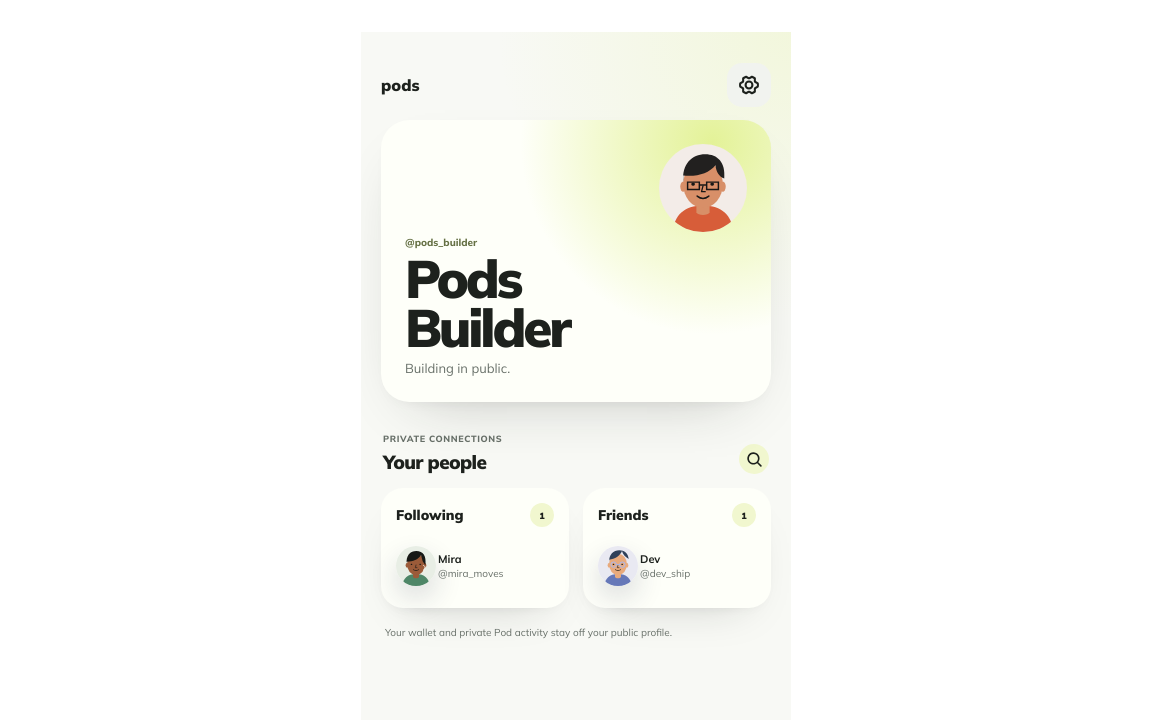
Test case: ProfilePage › keeps profile controls behind one icon settings sheet
Step 1. Click the button named "Open profile settings" → [749, 85], box [727,63,771,107]
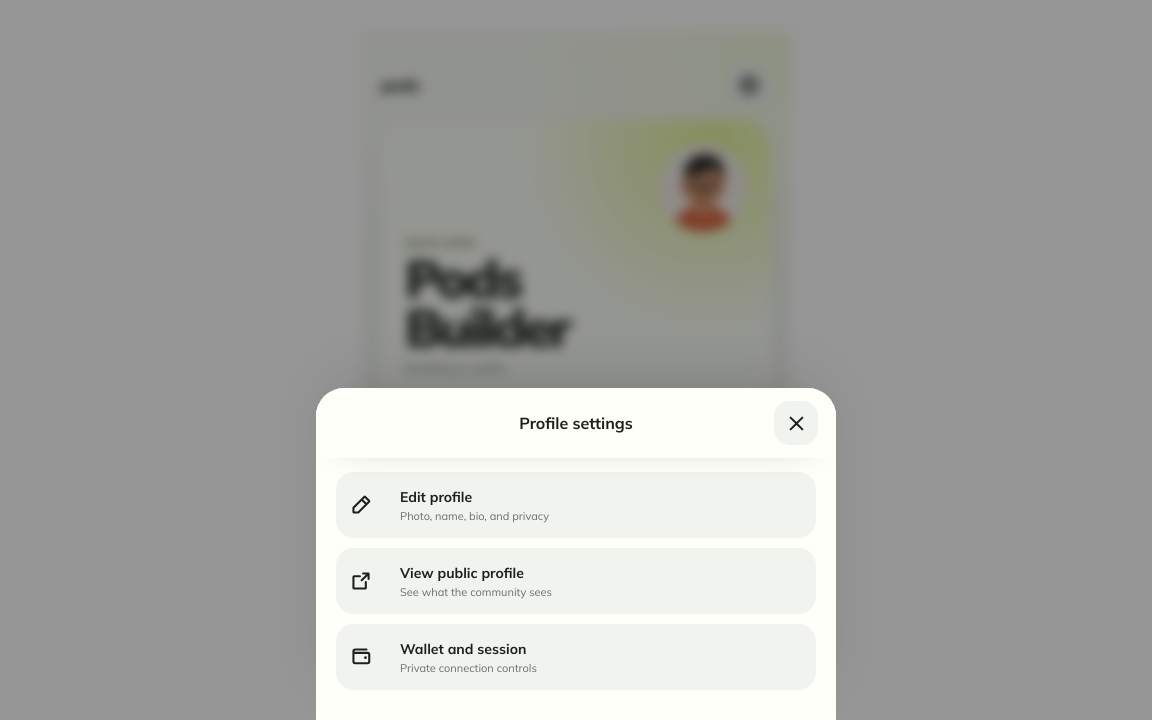
Now the dialog "Profile settings" is shown, box [316,388,836,719]
Now the button "Edit profile" is shown, box [336,472,816,538]
Now the button "Wallet and session" is shown, box [336,624,816,690]
Step 2. Press Escape
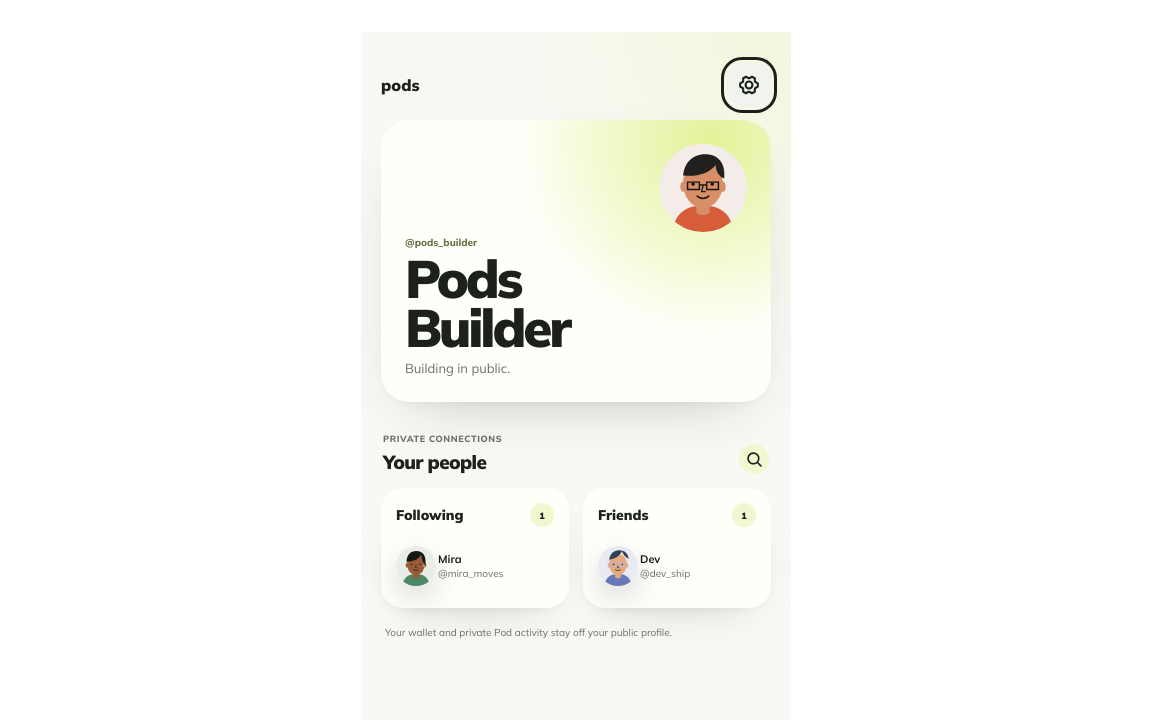
Now the text "Profile settings" is gone
